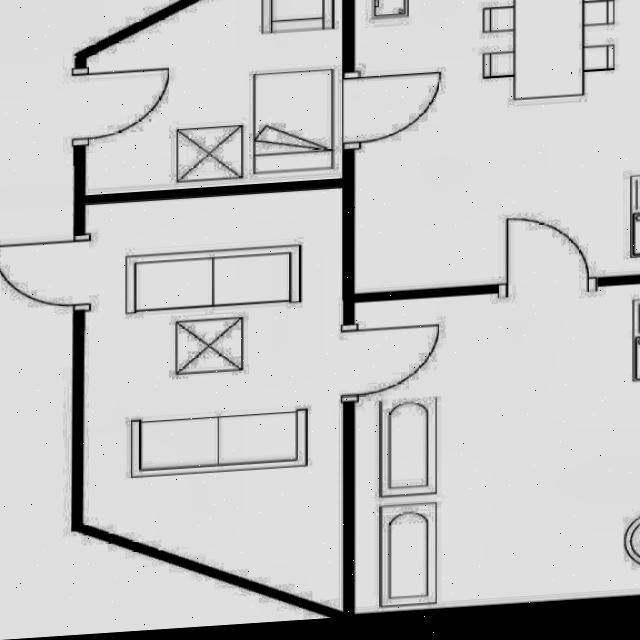room: (82, 187, 344, 612), (354, 284, 640, 614), (355, 0, 640, 294), (85, 0, 343, 195)
